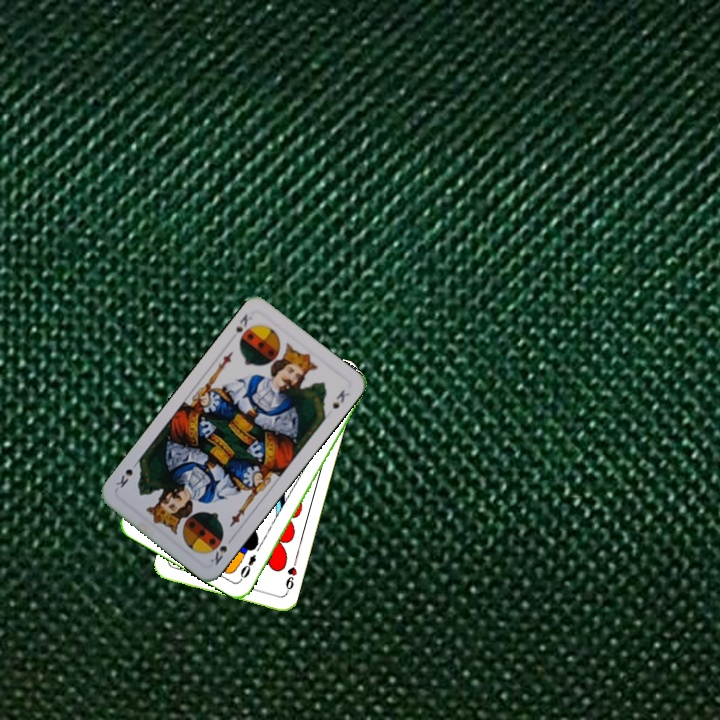EO: (236, 550, 259, 584)
H9: (281, 563, 300, 596)
SK: (206, 541, 230, 568), (231, 310, 255, 336)
